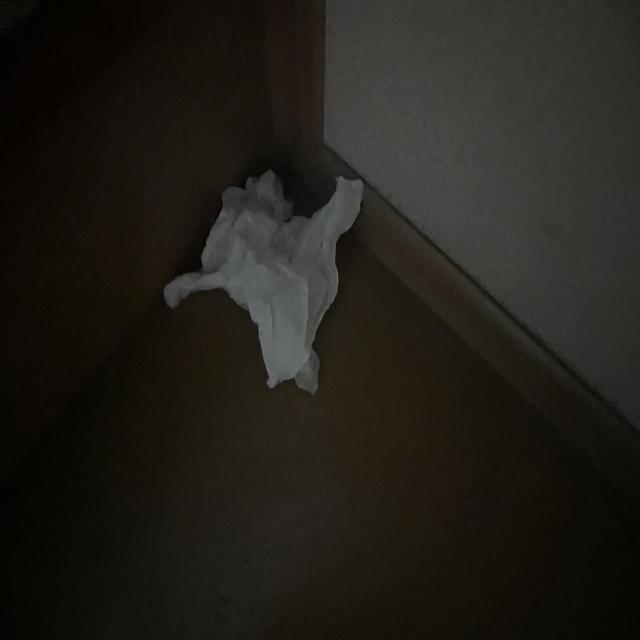Paper: (169, 167, 370, 372)
